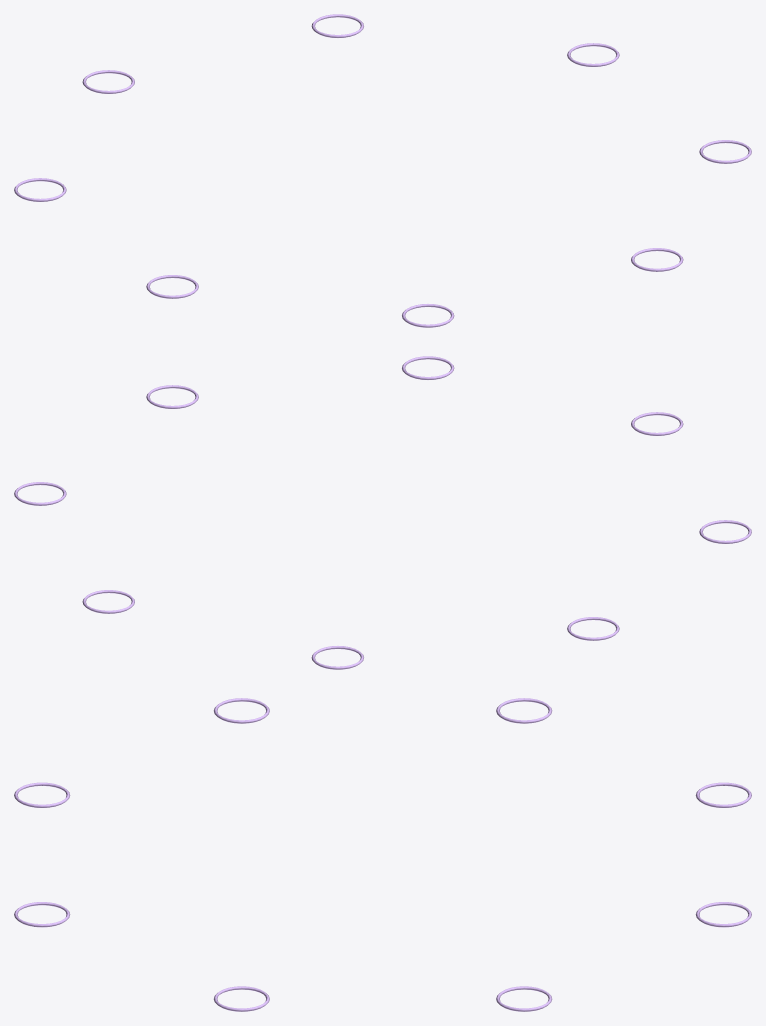
Rendered from Buracona_GemGenerator.fbx.
3 views of the same model, one above another, from view 1: azimuth 30°, elevation 25°; view 2: azimuth 150°, elevation 25°; view 3: azimuth 270°, elevation 25° (orthographic). The views are drawn at different scales.
Size of the model in its own units: 11.8 by 0.06 by 11.8.
